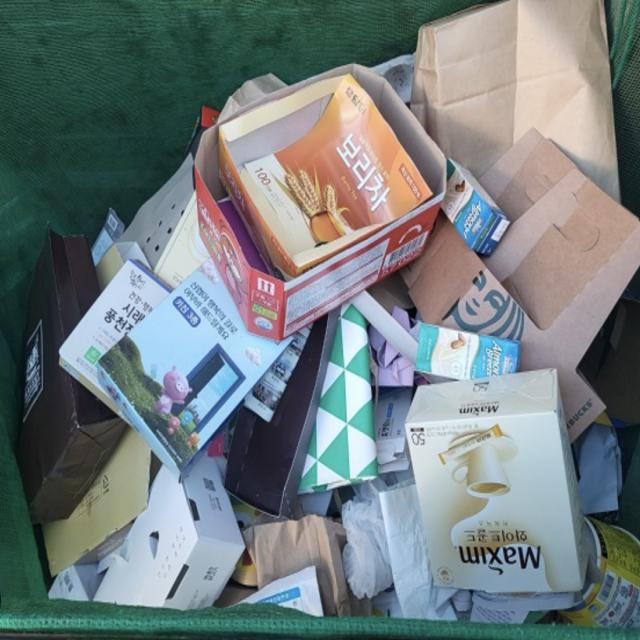biodegradable: (186, 58, 454, 336), (41, 243, 292, 472), (399, 352, 610, 620), (466, 84, 634, 367), (122, 475, 277, 612)
